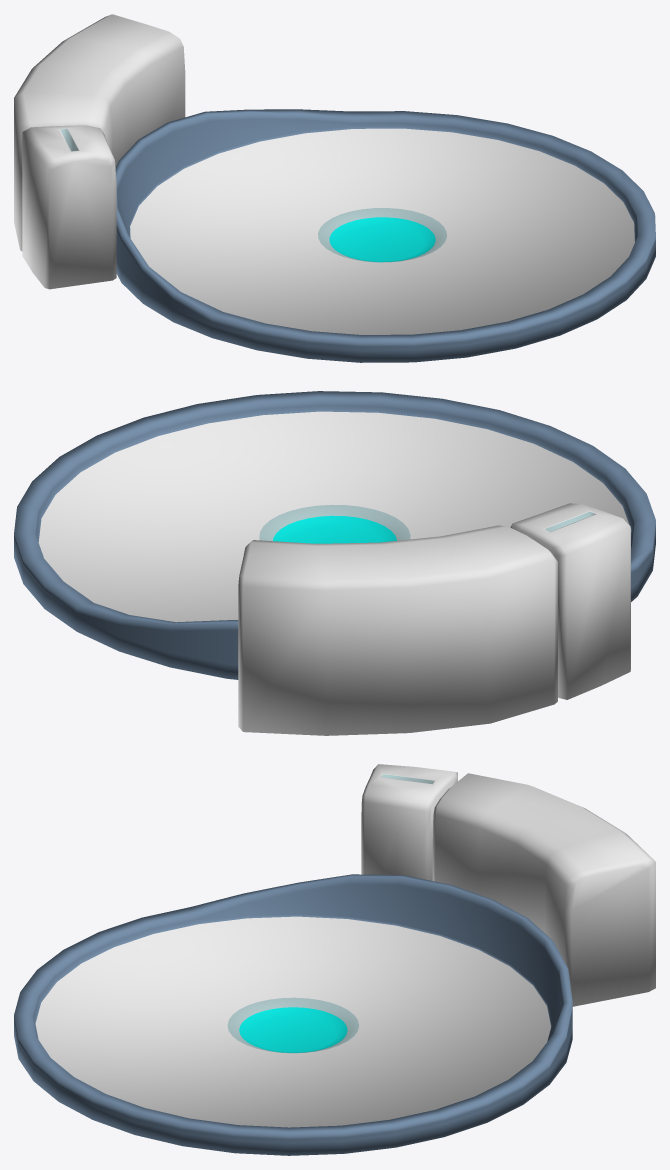
Rendered from computer.fbx.
The picture shows the model from 3 angles, top to bottom: view 1: azimuth 30°, elevation 25°; view 2: azimuth 150°, elevation 25°; view 3: azimuth 270°, elevation 25°; orthographic projection. The views are drawn at different scales.
Visible parts, largest first — view 1: Cylinder, Cube.001, body.001; view 2: Cylinder, Cube.001, body.001; view 3: Cylinder, Cube.001, body.001.
Part boxes in pixels (<box>): Cylinder: <box>115,109,655,362</box>; Cube.001: <box>14,14,185,251</box>; body.001: <box>22,125,116,289</box>; Cylinder: <box>14,391,655,679</box>; Cube.001: <box>238,525,557,735</box>; body.001: <box>510,503,630,699</box>; Cylinder: <box>14,874,572,1155</box>; Cube.001: <box>432,773,655,1006</box>; body.001: <box>361,764,457,880</box>.
Bounding box in the file's own units: 1562 × 363 × 1601.
